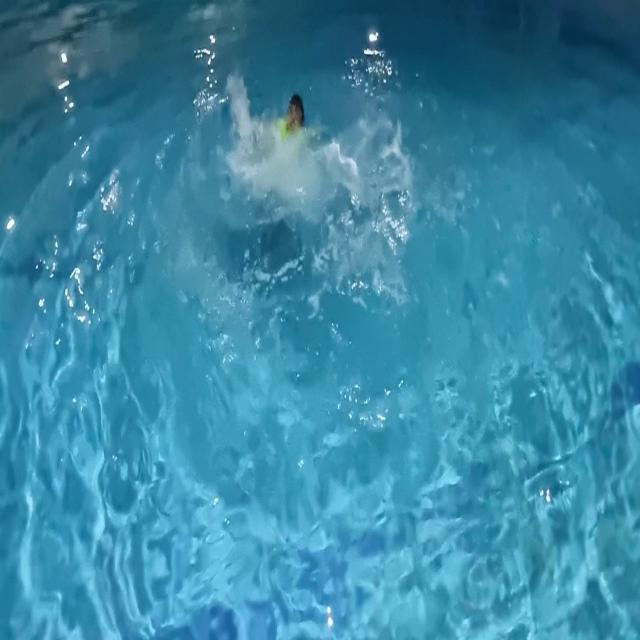Drowning: (207, 58, 372, 255)
